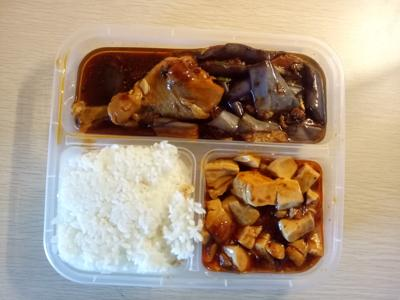df: (204, 149, 330, 280)
jt: (73, 35, 219, 136)
rice: (58, 143, 198, 275)
sqz: (204, 40, 330, 144)
